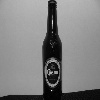beer: (41, 1, 70, 100)
